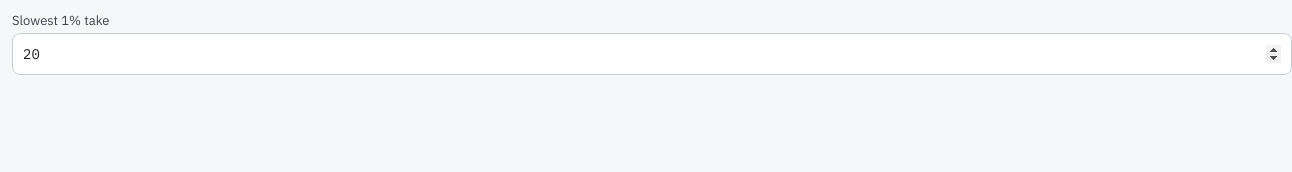
Test: NumberField above › must be above a floor (not equal to it), explained in its own words, and blocks the form
Later steps or results of the test are not shown.
Replace the text in the number field with "4" at {"x": 652, "y": 54}, box [23,35,1281,73]
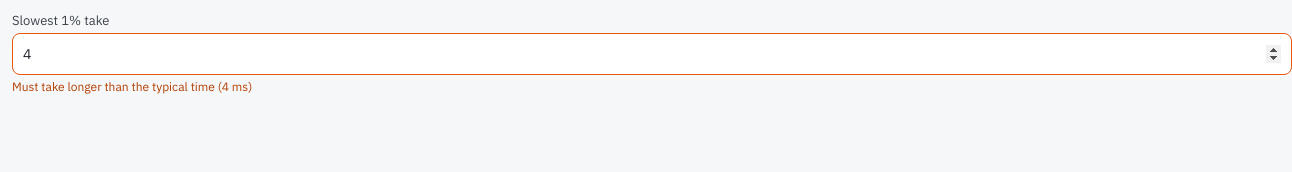
Result: the text "Must take longer than the typical time (4 ms)" is shown at [12,79,252,94]
